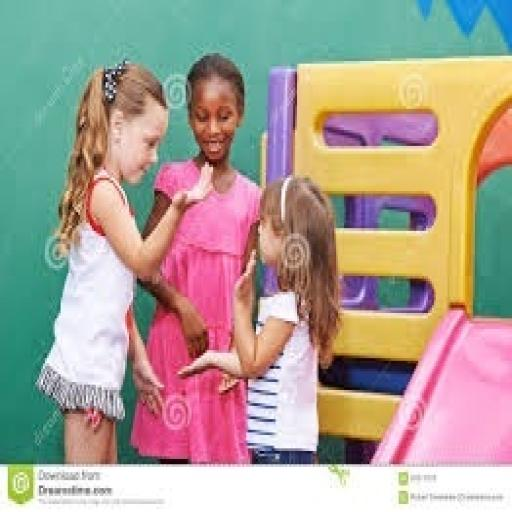clapping: (33, 58, 215, 464), (127, 50, 266, 464), (174, 172, 342, 464)
